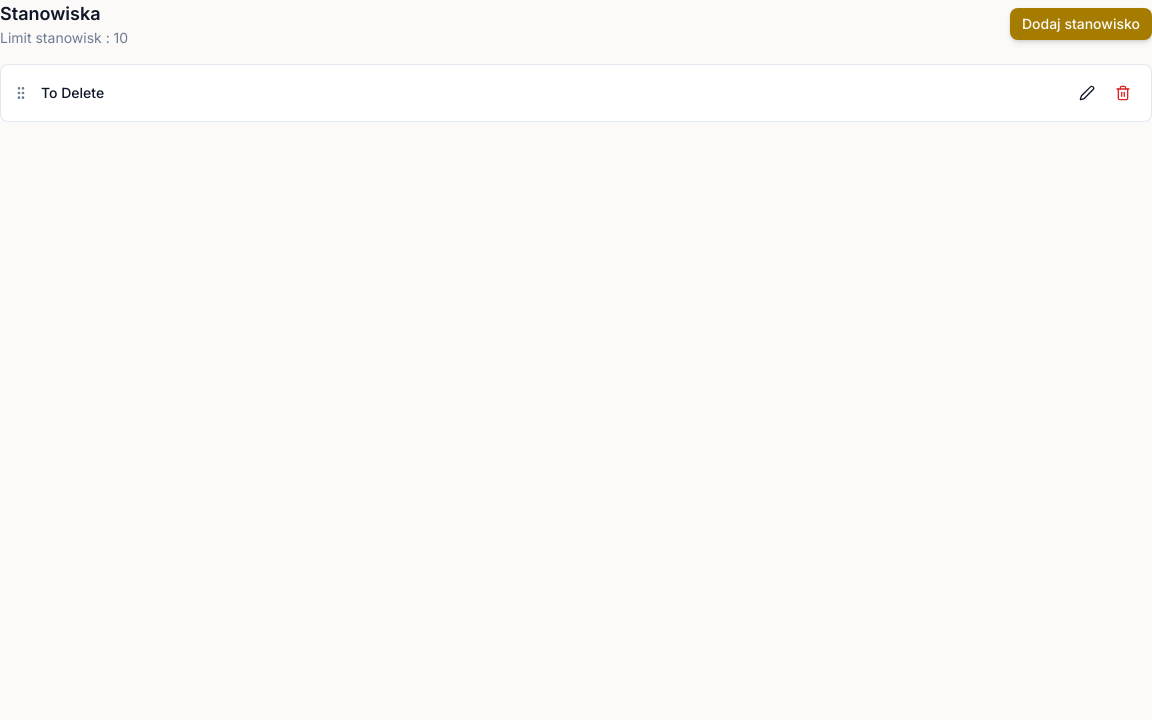
Test: StationsSettings › Delete station — confirmation dialog › opens confirm dialog before deleting
Check: the text "To Delete" is shown, box [41, 83, 104, 103]
Click the 4th button at (1123, 93), box [1107, 77, 1139, 109]
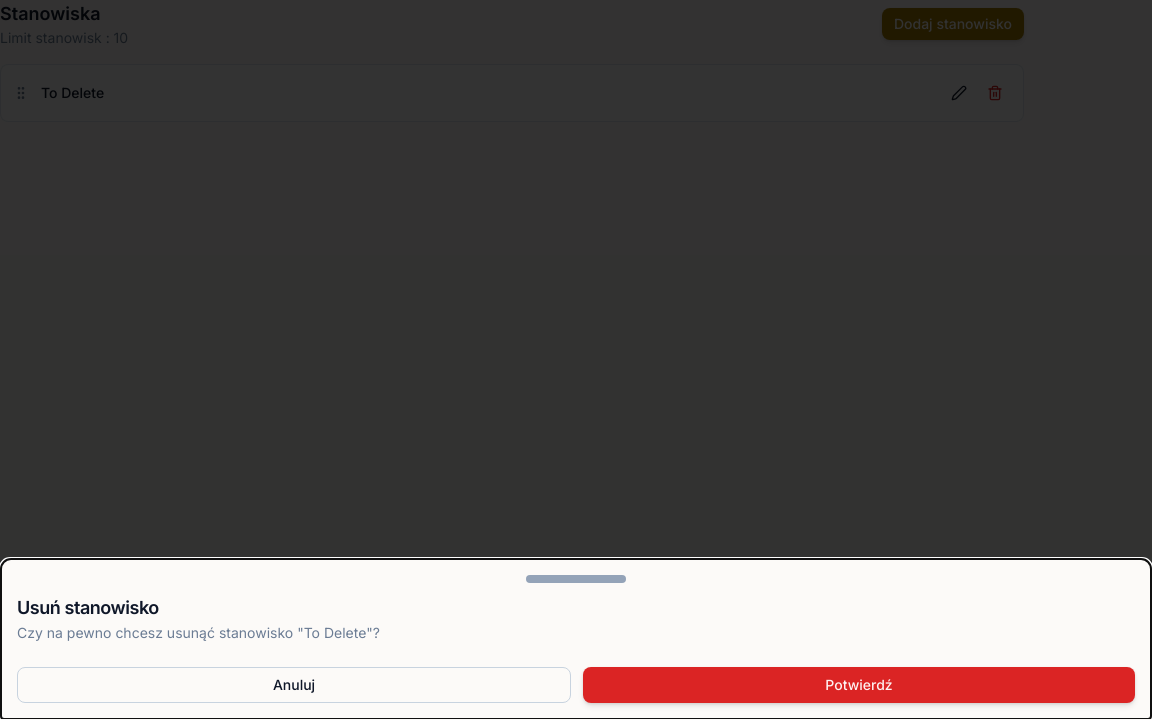
Check: the heading "Usuń stanowisko" is shown, box [17, 597, 159, 618]
Check: the text "Czy na pewno chcesz usunąć stanowisko \"To Delete\"?" is shown, box [17, 624, 380, 641]
